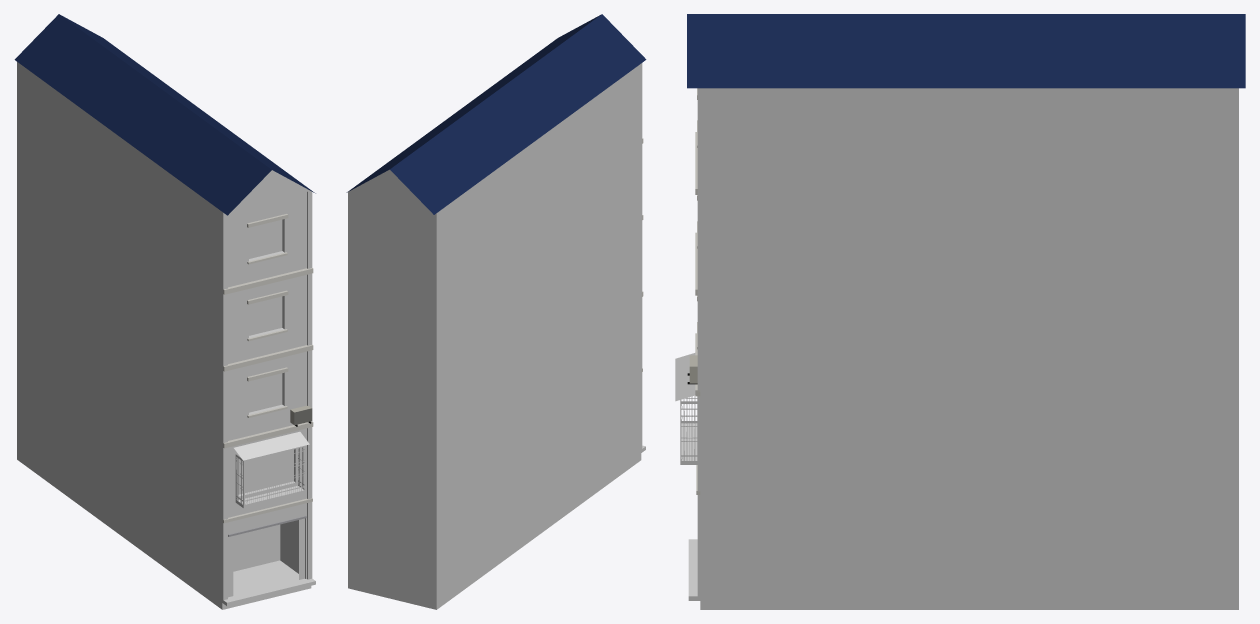
3 views of the same model, side by side, from view 1: azimuth 30°, elevation 25°; view 2: azimuth 150°, elevation 25°; view 3: azimuth 270°, elevation 25° (orthographic). The views are drawn at different scales.
Visible parts, largest first — view 1: TH_D16_C_08_LOD0; view 2: TH_D16_C_08_LOD0; view 3: TH_D16_C_08_LOD0.
Boxes of the visible parts, x1,y1,x2,y2 form: TH_D16_C_08_LOD0: (14, 14, 315, 609); TH_D16_C_08_LOD0: (346, 14, 646, 609); TH_D16_C_08_LOD0: (675, 14, 1245, 609).
Size of what is drawn, in the model's own units: 4 by 18.6 by 16.95.
